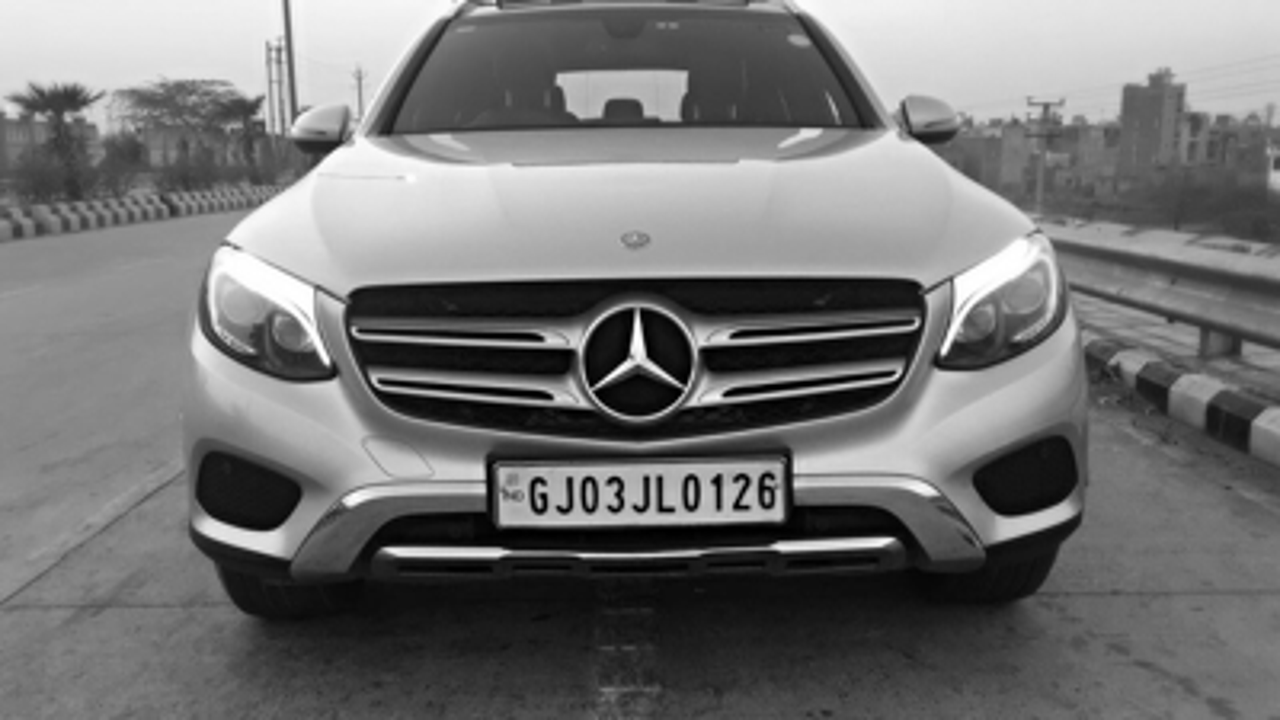license: (485, 450, 799, 540)
